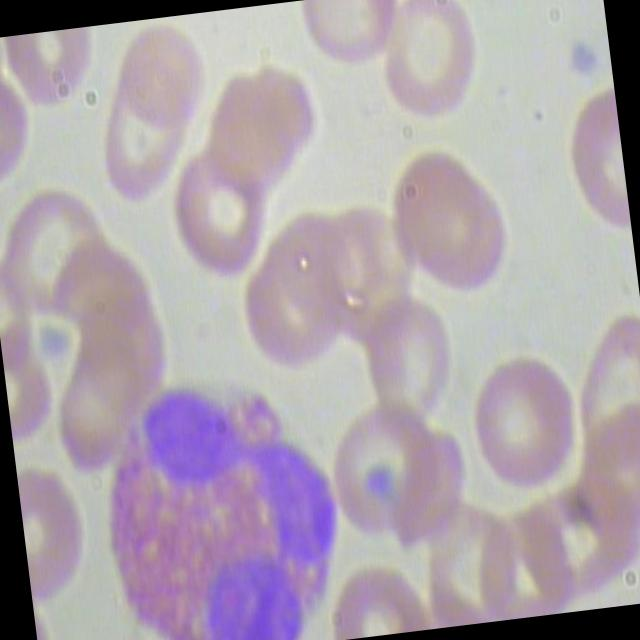Platelets: (558, 34, 604, 88), (34, 322, 76, 366)
RBC: (320, 404, 445, 554), (396, 164, 529, 304), (466, 351, 588, 503), (85, 70, 199, 208), (375, 0, 488, 136), (166, 150, 272, 292), (382, 142, 487, 278), (111, 26, 225, 142), (565, 304, 640, 454), (570, 426, 640, 559)
WBC: (78, 362, 365, 640)
